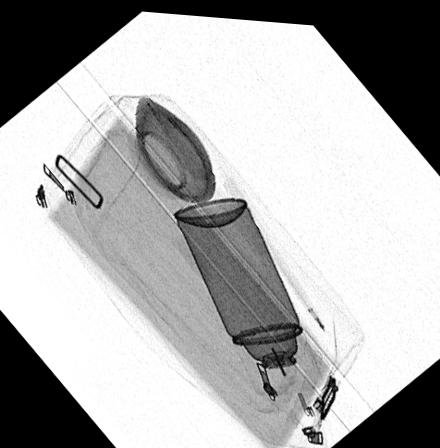Sprayer: (172, 192, 322, 389)
